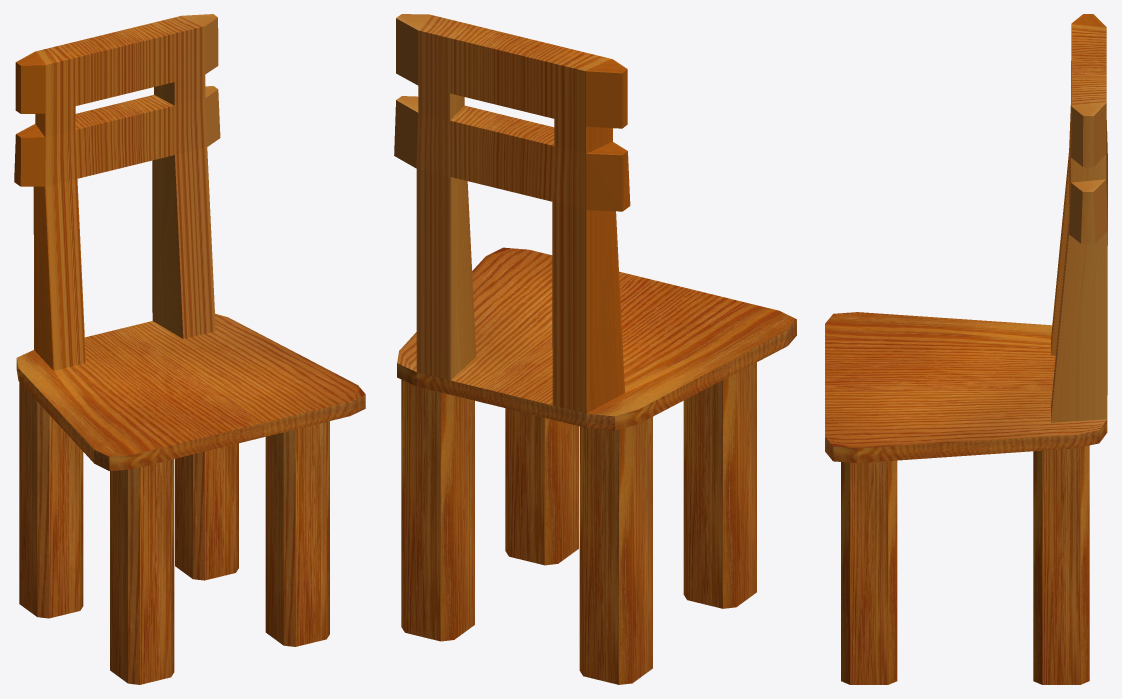
File: adult_chair.fbx
3 renders of one model, left to right at view 1: azimuth 30°, elevation 25°; view 2: azimuth 150°, elevation 25°; view 3: azimuth 270°, elevation 25°, orthographic. The views are drawn at different scales.
Visible parts, largest first — view 1: assise_adulte, leg_01, leg_04, leg_02, leg_03; view 2: assise_adulte, leg_02, leg_03, leg_01, leg_04; view 3: assise_adulte, leg_03, leg_04.
Boxes of the visible parts, x1=… form: assise_adulte: x1=14, y1=14, x2=365, y2=470; leg_01: x1=110, y1=459, x2=174, y2=684; leg_04: x1=265, y1=421, x2=329, y2=646; leg_02: x1=19, y1=382, x2=83, y2=618; leg_03: x1=175, y1=443, x2=238, y2=580; assise_adulte: x1=394, y1=14, x2=796, y2=430; leg_02: x1=579, y1=417, x2=652, y2=684; leg_03: x1=401, y1=379, x2=474, y2=641; leg_01: x1=683, y1=362, x2=756, y2=608; leg_04: x1=505, y1=408, x2=578, y2=565; assise_adulte: x1=825, y1=14, x2=1107, y2=463; leg_03: x1=1033, y1=445, x2=1089, y2=684; leg_04: x1=841, y1=460, x2=897, y2=684.
Bounding box in the file's own units: 57.12 × 111 × 50.07.
